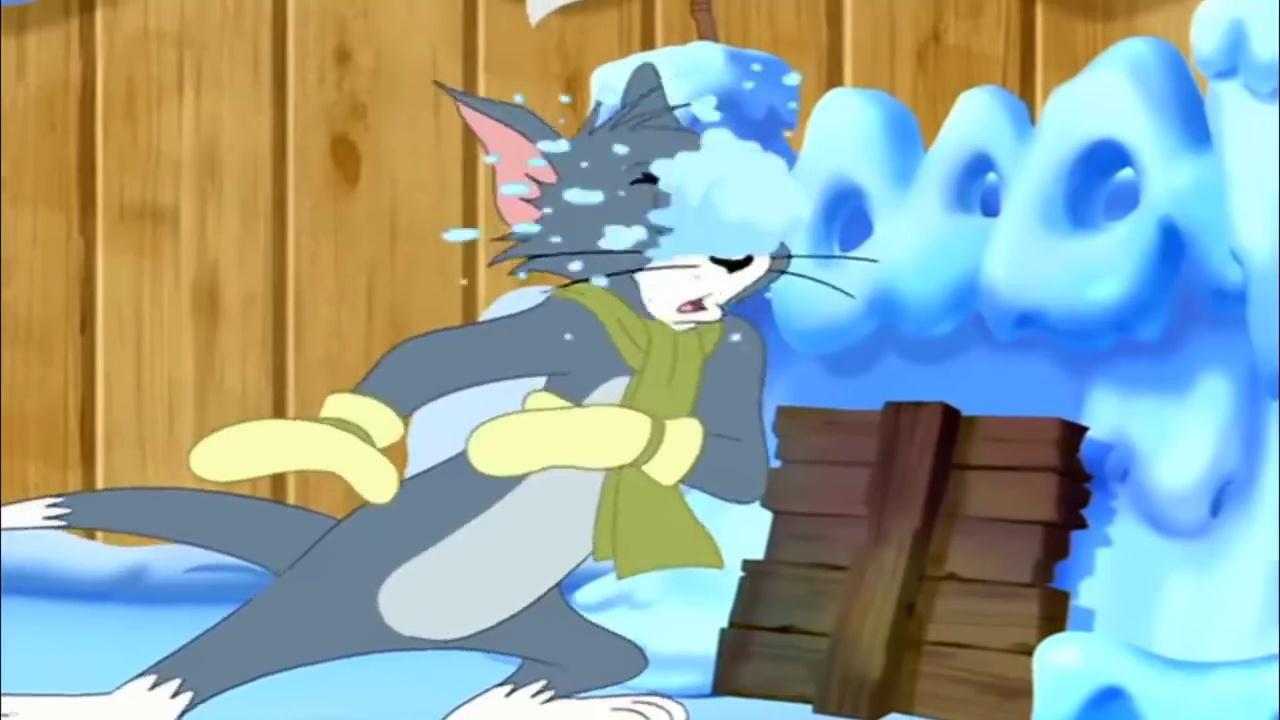face: (610, 148, 790, 329)
